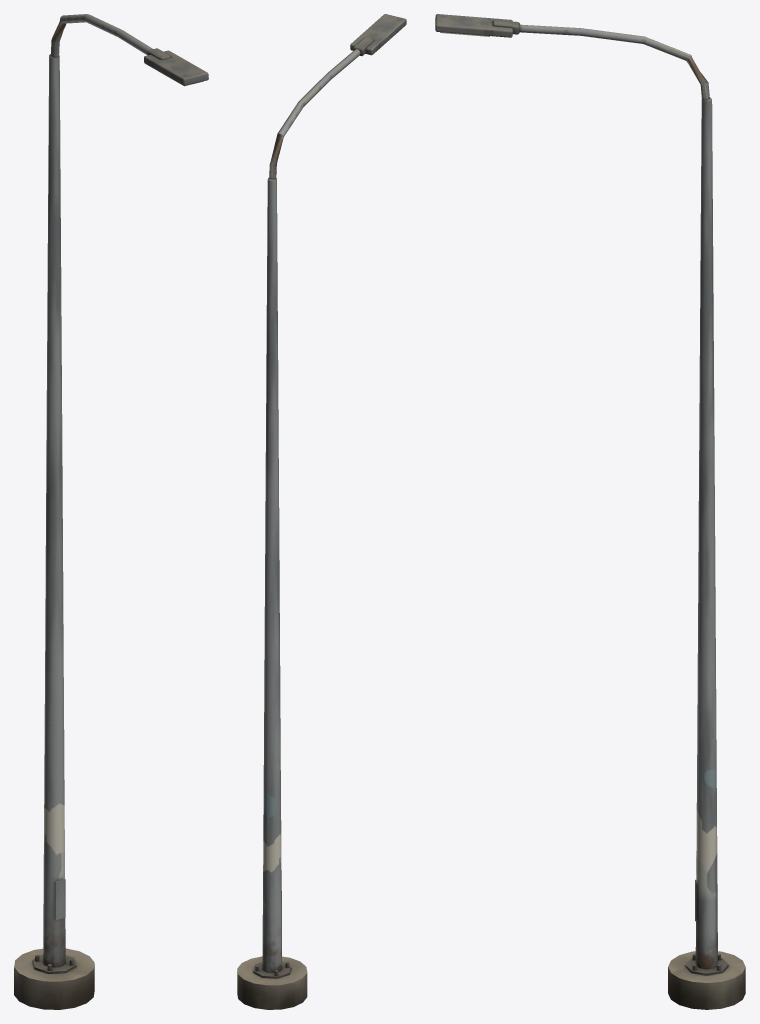
Rendered from lamp_post.glb.
The picture shows the model from 3 angles, left to right: view 1: azimuth 30°, elevation 25°; view 2: azimuth 150°, elevation 25°; view 3: azimuth 270°, elevation 25°; orthographic projection. The views are drawn at different scales.
Parts seen in each view (by area): view 1: body; view 2: body; view 3: body.
Boxes of the visible parts, box(x1,y1,x2,y2) form: body: box(14, 14, 208, 1009); body: box(237, 14, 406, 1009); body: box(435, 14, 745, 1009).
Bounding box in the file's own units: 0.68 × 9.42 × 2.72.
1 material, 1 textured.
